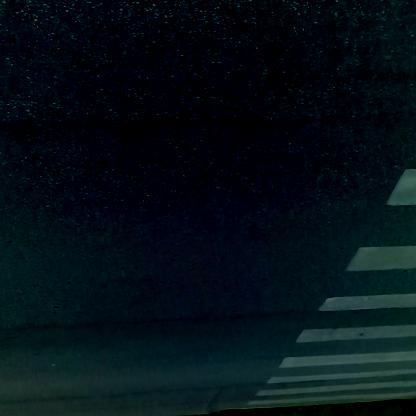crosswalk: (246, 145, 416, 409)
